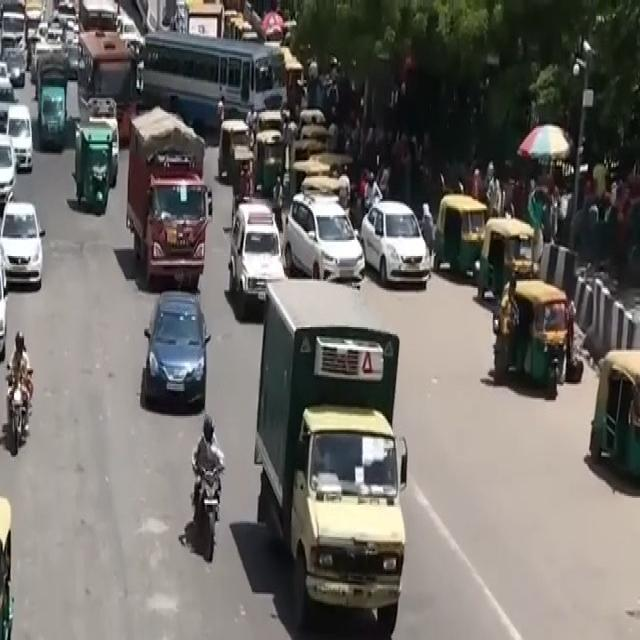car: (133, 284, 221, 416), (279, 190, 370, 304), (353, 190, 441, 294), (221, 197, 300, 311), (0, 194, 53, 295), (0, 124, 26, 217), (0, 234, 18, 364)
motorbike: (180, 409, 232, 571), (0, 327, 44, 464)
rickshaw: (580, 336, 640, 507), (0, 476, 32, 640)
van: (249, 256, 416, 640), (119, 97, 216, 286)
